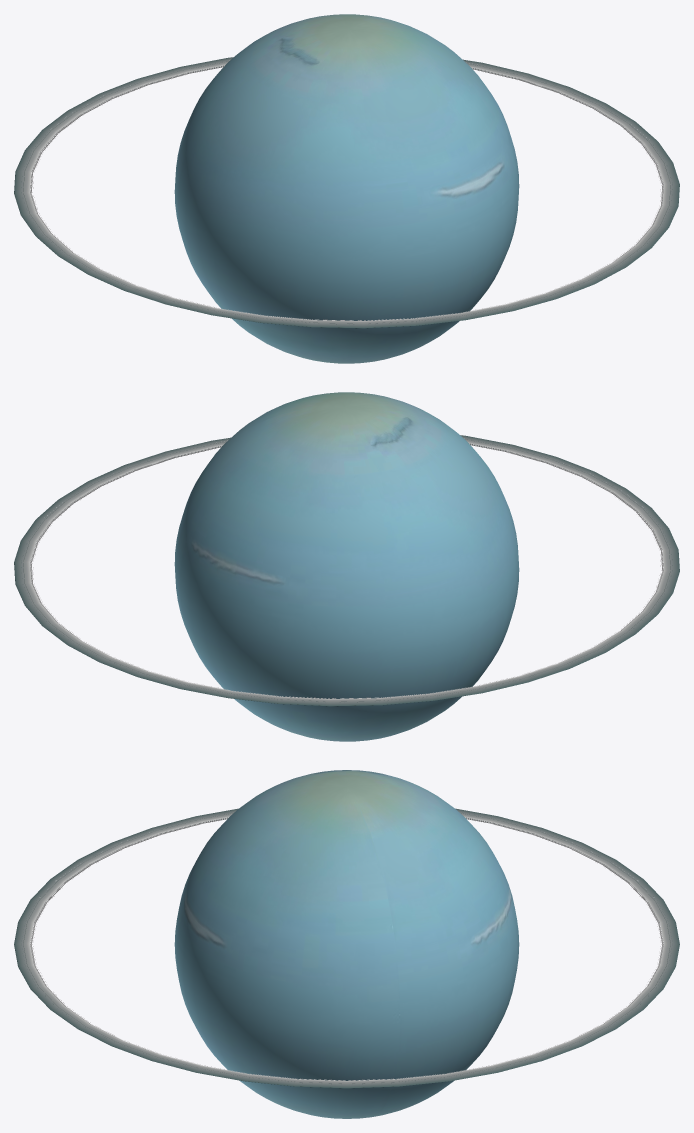
File: Uranus.fbx
The picture shows the model from 3 angles, top to bottom: view 1: azimuth 30°, elevation 25°; view 2: azimuth 150°, elevation 25°; view 3: azimuth 270°, elevation 25°; orthographic projection.
Visible parts, largest first — view 1: polySurface6; view 2: polySurface6; view 3: polySurface6.
Part boxes in pixels (left/top/right/bottom): polySurface6: left=14, top=14, right=679, bottom=363; polySurface6: left=14, top=392, right=679, bottom=741; polySurface6: left=14, top=770, right=679, bottom=1118.
Bounding box in the file's own units: 570 × 300 × 570.
2 materials, 2 textured.
